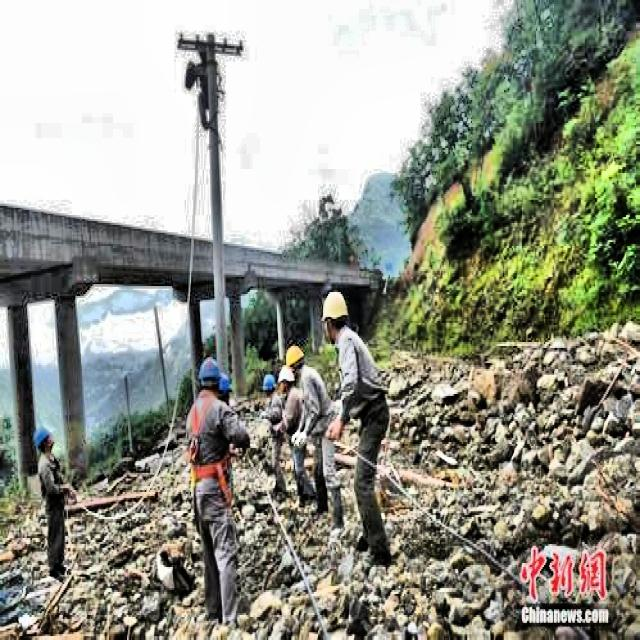helmet: (316, 283, 350, 342), (196, 352, 223, 399), (284, 340, 306, 379), (33, 421, 58, 455), (277, 365, 298, 394), (259, 373, 276, 402)
